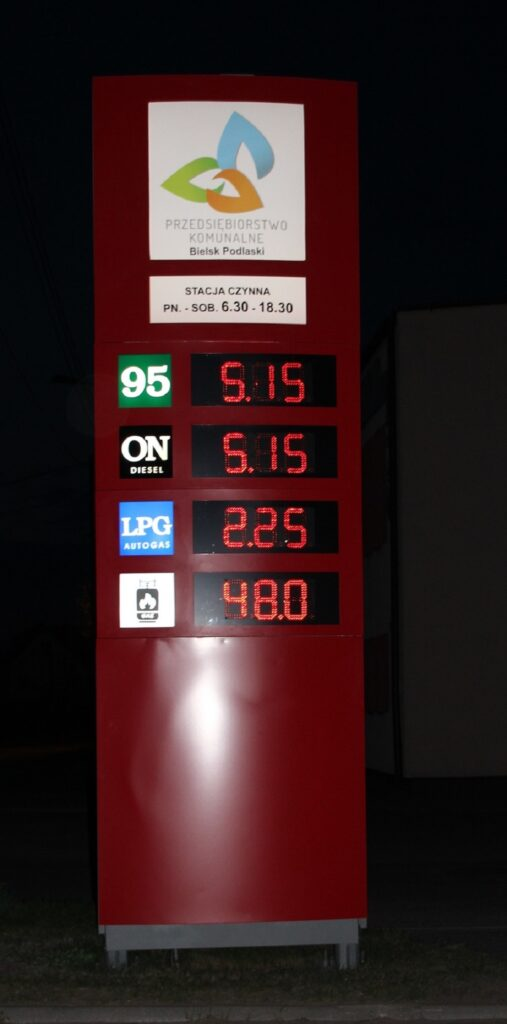LPG: (113, 496, 177, 560)
ON: (119, 424, 174, 481)
PB95: (115, 345, 171, 413)
